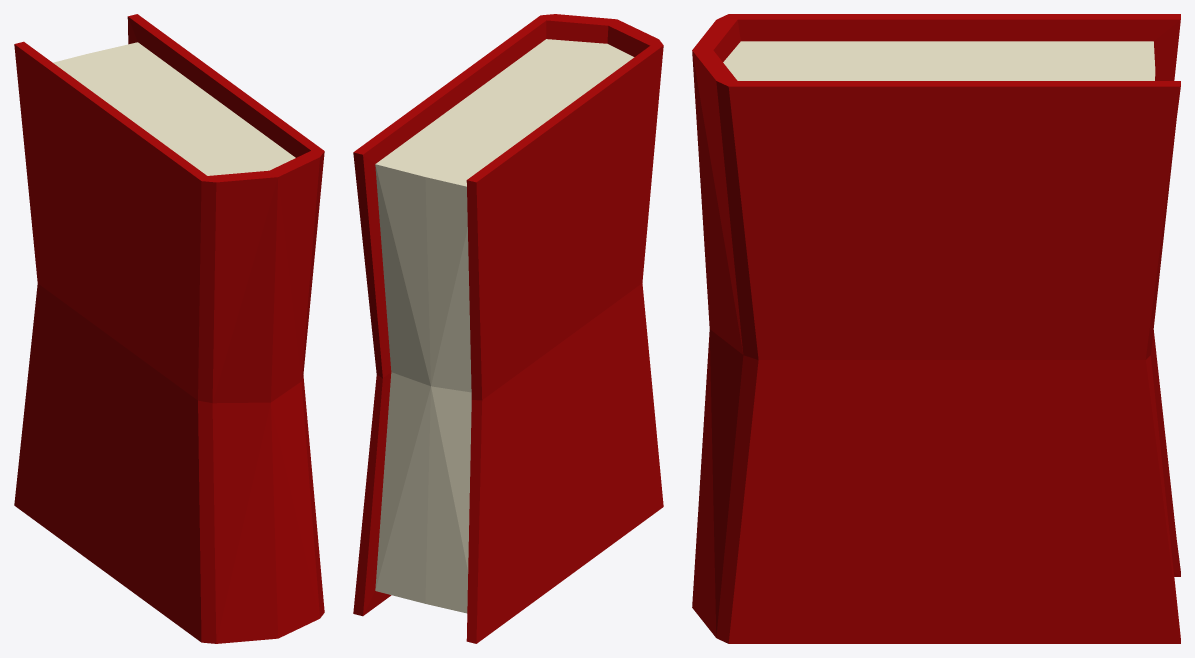
Rendered from book_r.fbx.
The picture shows the model from 3 angles, left to right: view 1: azimuth 30°, elevation 25°; view 2: azimuth 150°, elevation 25°; view 3: azimuth 270°, elevation 25°; orthographic projection. The views are drawn at different scales.
Visible parts, largest first — view 1: Box001; view 2: Box001; view 3: Box001.
Boxes of the visible parts, <box> form: Box001: <box>14,14,324,643</box>; Box001: <box>353,14,663,643</box>; Box001: <box>692,14,1180,643</box>.
Bounding box in the file's own units: 19 × 68 × 54.04.
